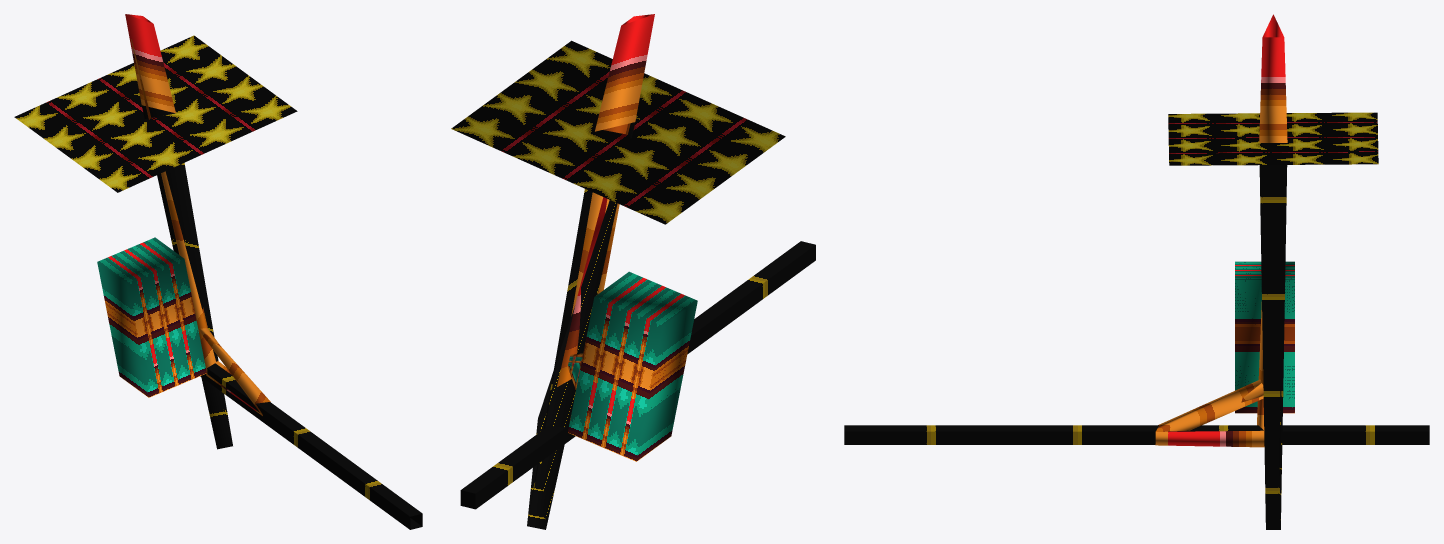
File: 00_02_stick.gltf
The picture shows the model from 3 angles, left to right: view 1: azimuth 30°, elevation 25°; view 2: azimuth 150°, elevation 25°; view 3: azimuth 270°, elevation 25°; orthographic projection. The views are drawn at different scales.
Parts seen in each view (by area): view 1: 00_02_stick; view 2: 00_02_stick; view 3: 00_02_stick.
Boxes of the visible parts, left/top/right/bottom form: 00_02_stick: left=14, top=14, right=422, bottom=529; 00_02_stick: left=451, top=14, right=815, bottom=529; 00_02_stick: left=844, top=14, right=1429, bottom=529.
Size of the model in its own units: 0.3569 by 0.8607 by 0.9783.
3 materials, 3 textured.
